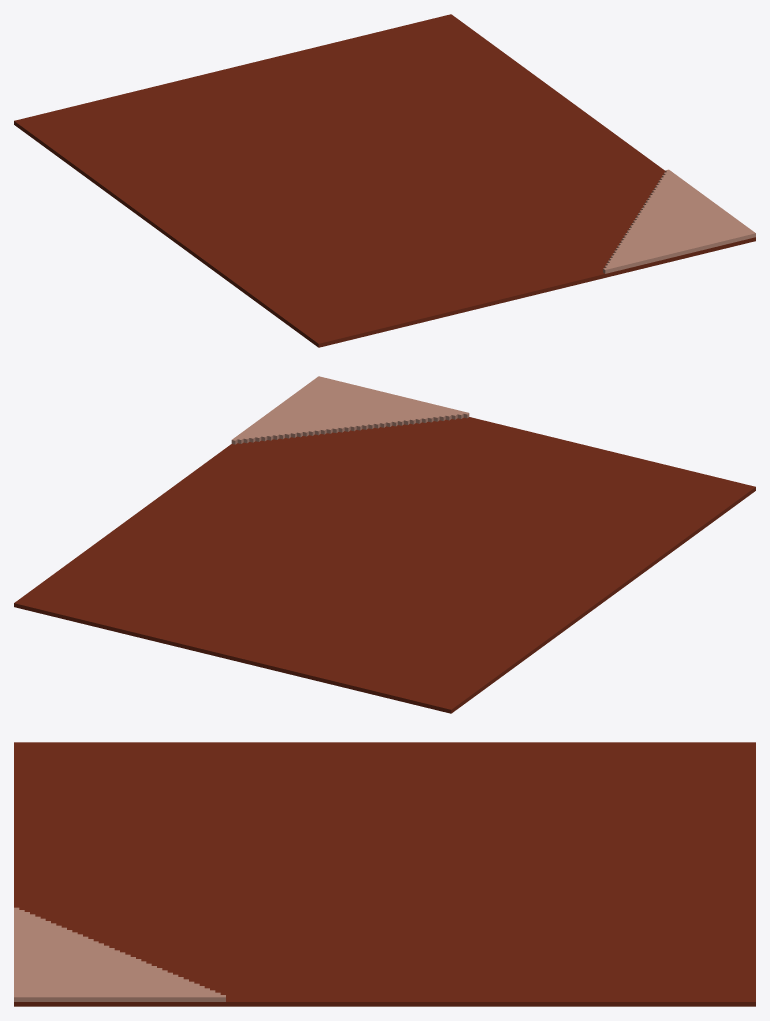
The model's file is sandpaper.glb.
The picture shows the model from 3 angles, top to bottom: view 1: azimuth 30°, elevation 25°; view 2: azimuth 150°, elevation 25°; view 3: azimuth 270°, elevation 25°; orthographic projection. The views are drawn at different scales.
Parts seen in each view (by area): view 1: sandpaper:compound; view 2: sandpaper:compound; view 3: sandpaper:compound.
Part boxes in pixels (x1,y1,x2,y2): sandpaper:compound: (14,14,755,347); sandpaper:compound: (14,376,755,713); sandpaper:compound: (14,742,755,1006).
Size of the model in its own units: 0.232 by 0.004 by 0.28.
